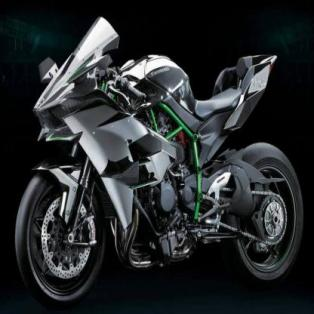Motocicleta: (12, 15, 308, 303)
